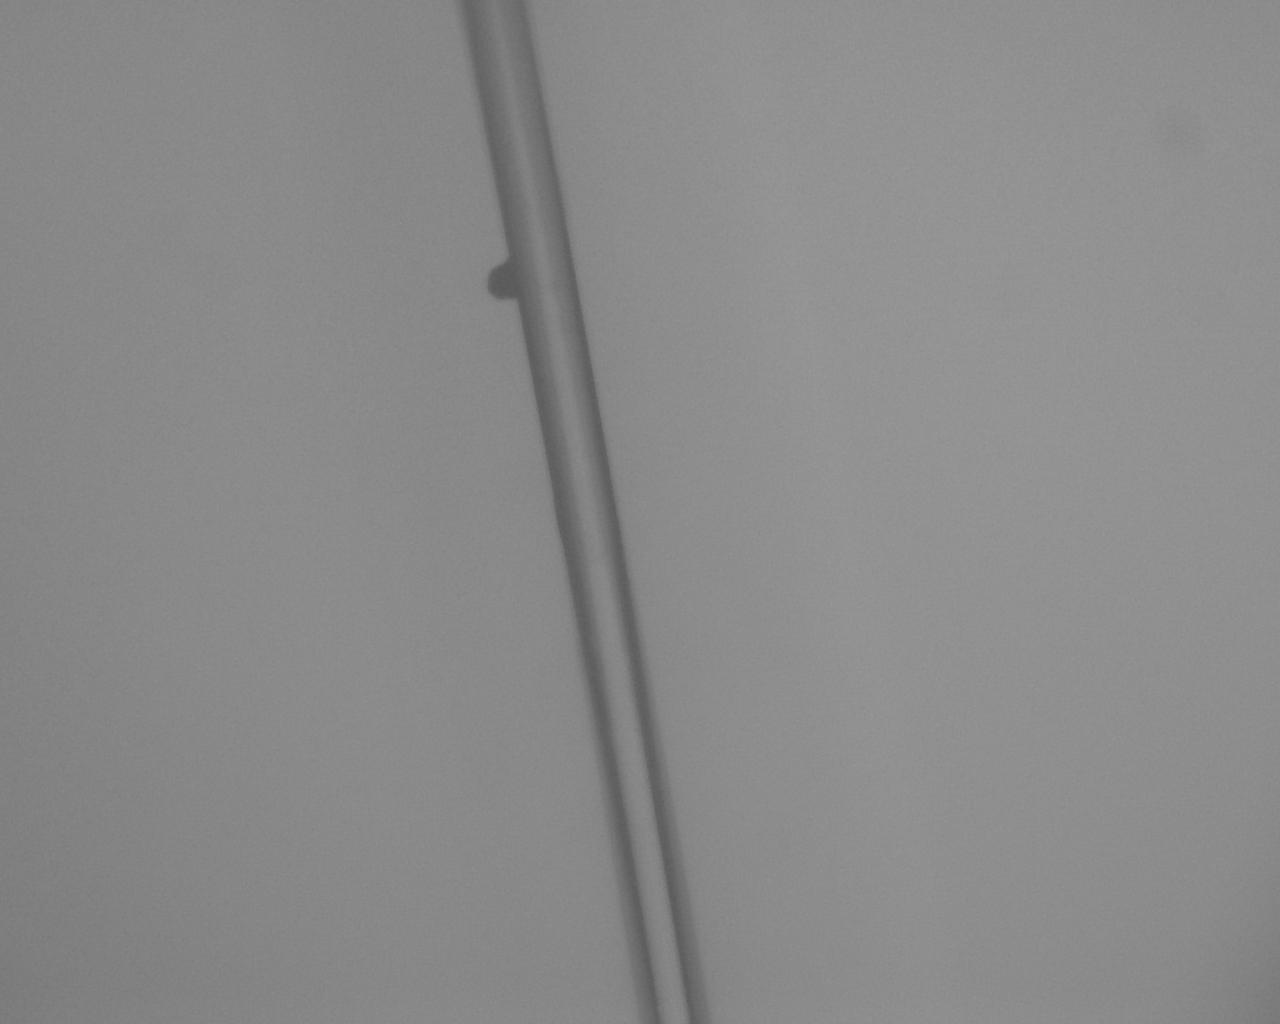fiber: (128, 156, 1152, 384)
